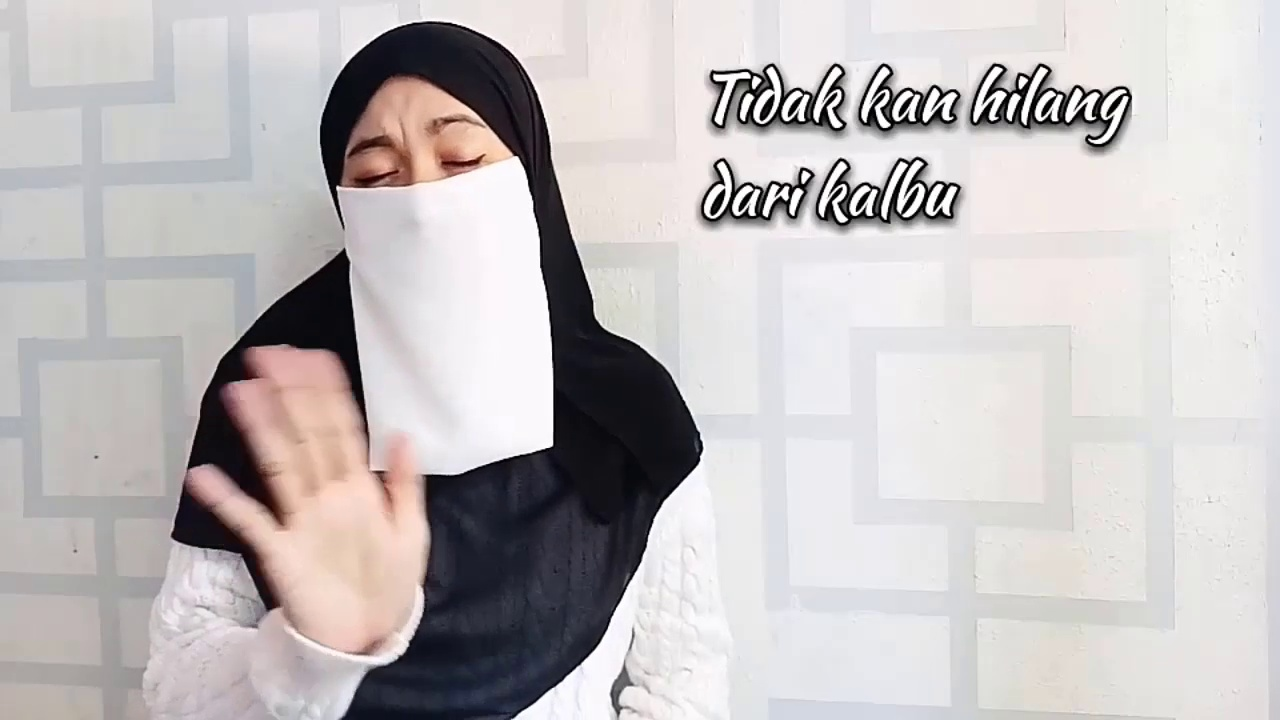TIDAK: (188, 19, 558, 688)
